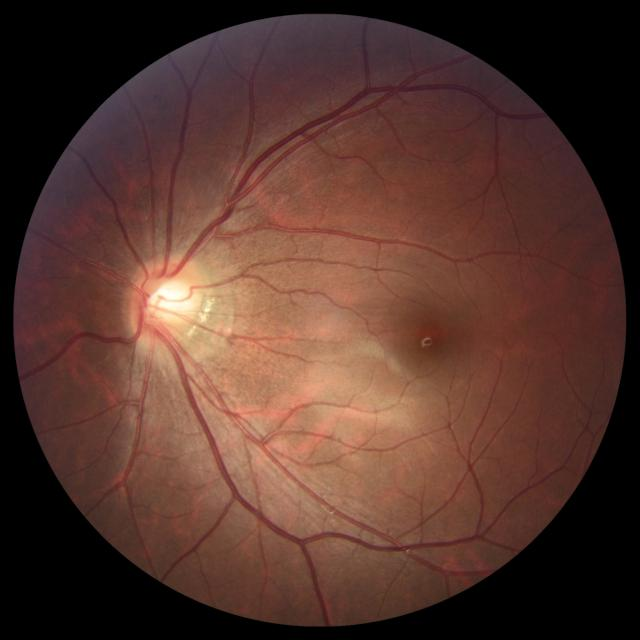OC: (148, 278, 188, 320)
OD: (128, 257, 205, 344)
